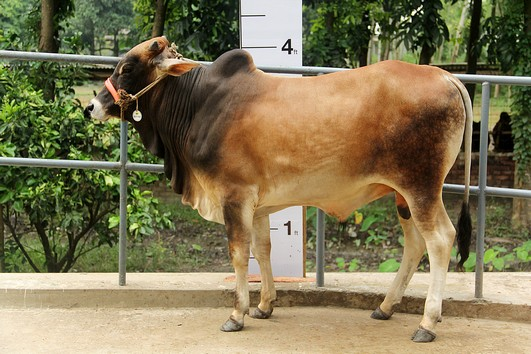cow: (81, 32, 477, 342)
